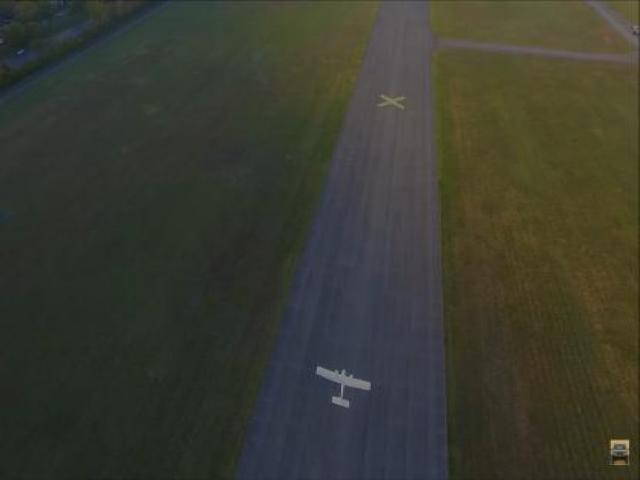uav: (318, 363, 370, 405)
